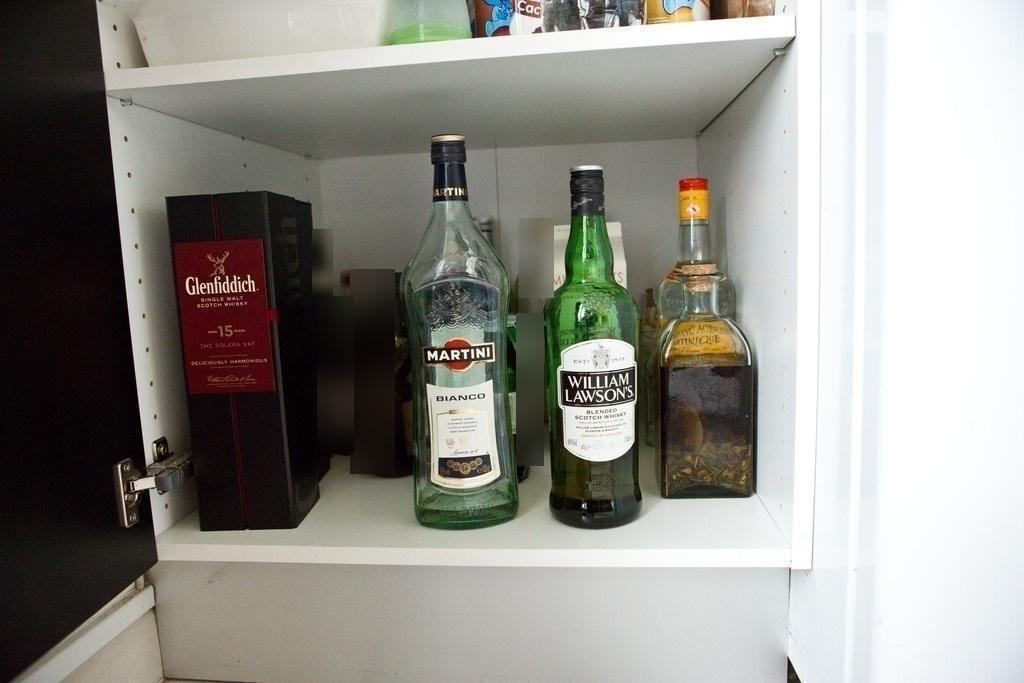bottle-glass: (397, 132, 520, 530), (540, 164, 648, 527), (649, 174, 764, 496), (658, 274, 760, 501)
